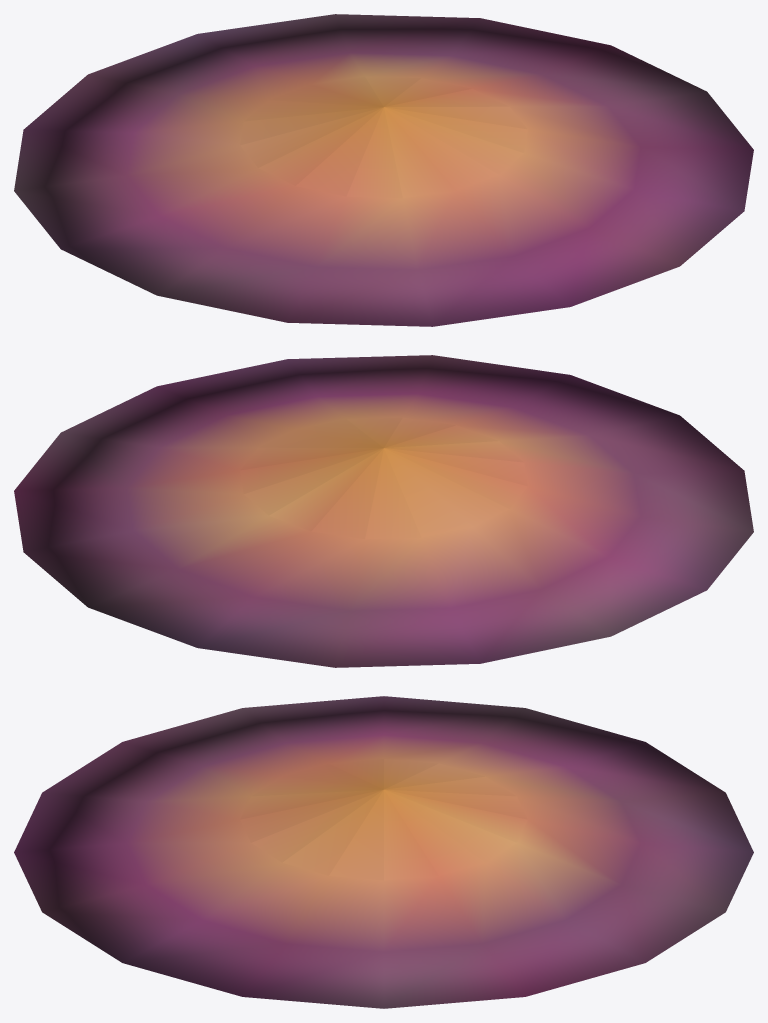
File: space-galaxies-galaxy_v2.glb
3 renders of one model, top to bottom at view 1: azimuth 30°, elevation 25°; view 2: azimuth 150°, elevation 25°; view 3: azimuth 270°, elevation 25°, orthographic.
Visible parts, largest first — view 1: Galaxy_v2; view 2: Galaxy_v2; view 3: Galaxy_v2.
Part boxes in pixels (x1,y1,x2,y2): Galaxy_v2: (14, 14, 753, 326); Galaxy_v2: (14, 355, 753, 667); Galaxy_v2: (14, 696, 753, 1008).
Size of the model in its own units: 0.5 by 0.0851 by 0.5.
